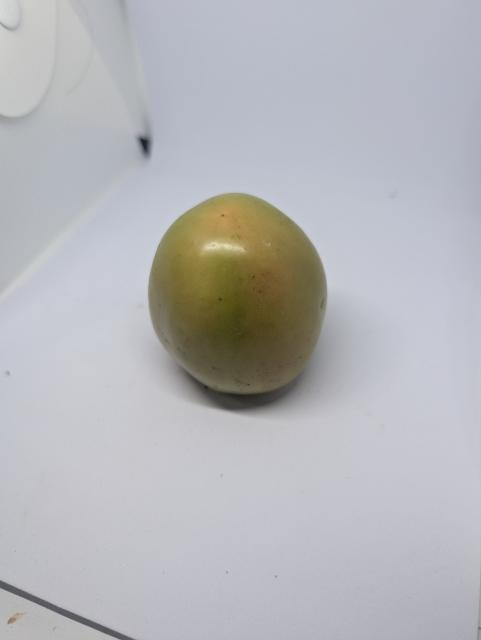breaker: (139, 190, 343, 403)
